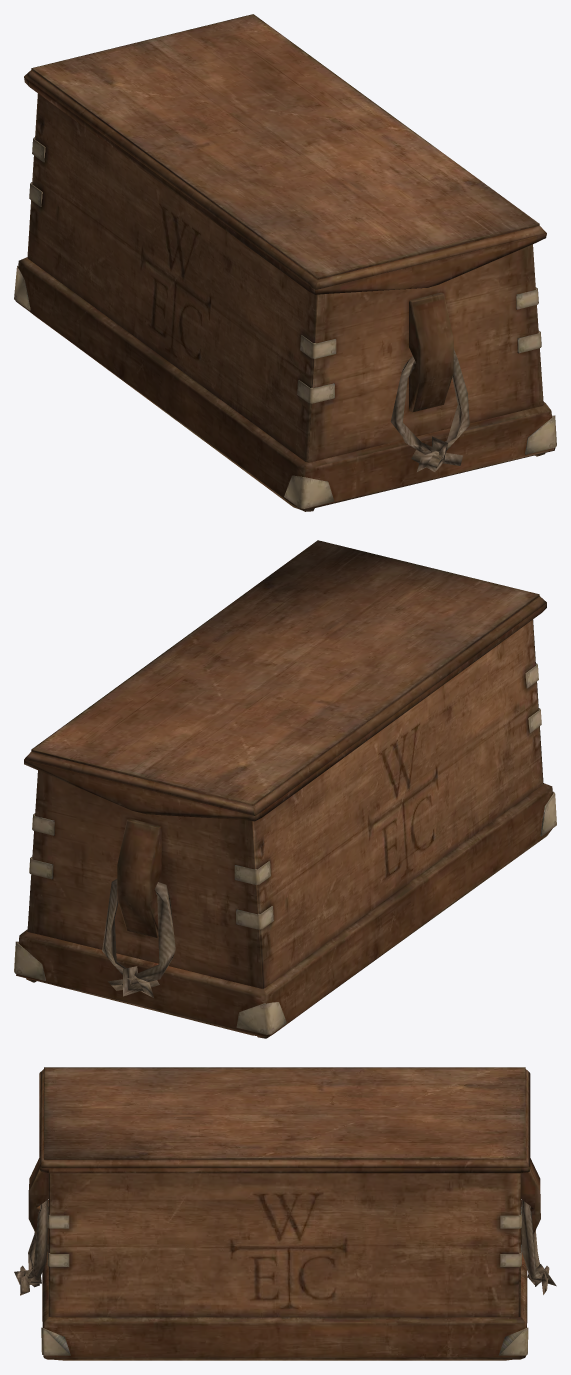
The model's file is wooden_crate_02.glb.
The picture shows the model from 3 angles, top to bottom: view 1: azimuth 30°, elevation 25°; view 2: azimuth 150°, elevation 25°; view 3: azimuth 270°, elevation 25°; orthographic projection. The views are drawn at different scales.
Parts seen in each view (by area): view 1: wooden_crate_02_crate, wooden_crate_02_lid; view 2: wooden_crate_02_crate, wooden_crate_02_lid; view 3: wooden_crate_02_crate, wooden_crate_02_lid.
Part boxes in pixels (bbox=[...]): wooden_crate_02_crate: bbox=[14, 93, 556, 511]; wooden_crate_02_lid: bbox=[24, 14, 546, 294]; wooden_crate_02_crate: bbox=[14, 619, 556, 1038]; wooden_crate_02_lid: bbox=[24, 540, 546, 821]; wooden_crate_02_crate: bbox=[14, 1158, 556, 1360]; wooden_crate_02_lid: bbox=[39, 1067, 530, 1173].
Size of the model in its own units: 0.5291 by 0.464 by 1.15.
1 material, 1 textured.
